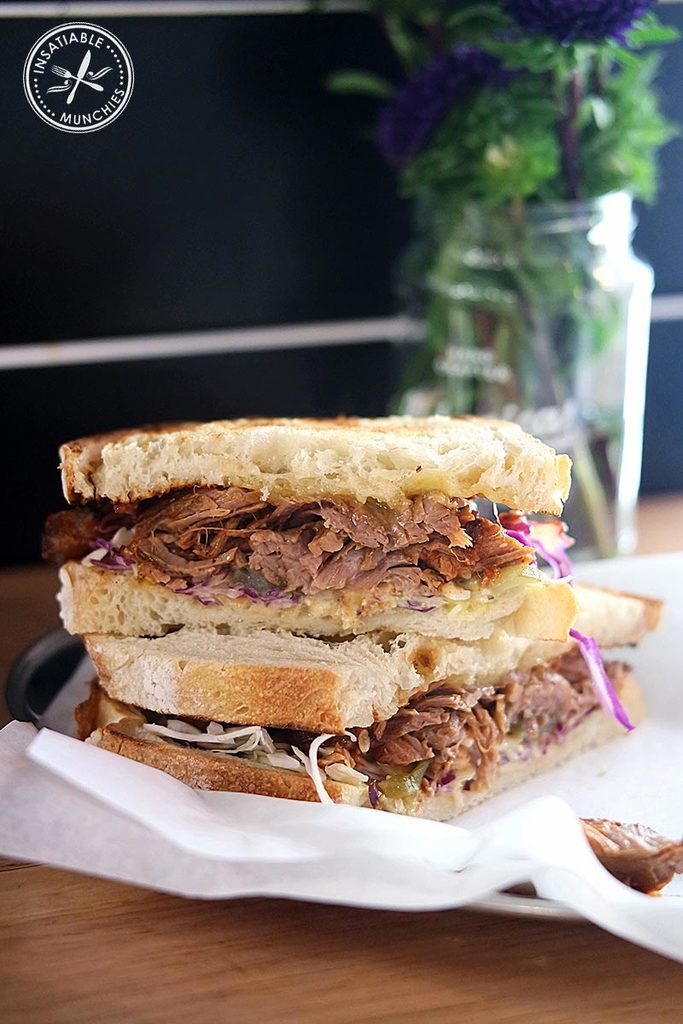Hamburger: (56, 416, 656, 822)
